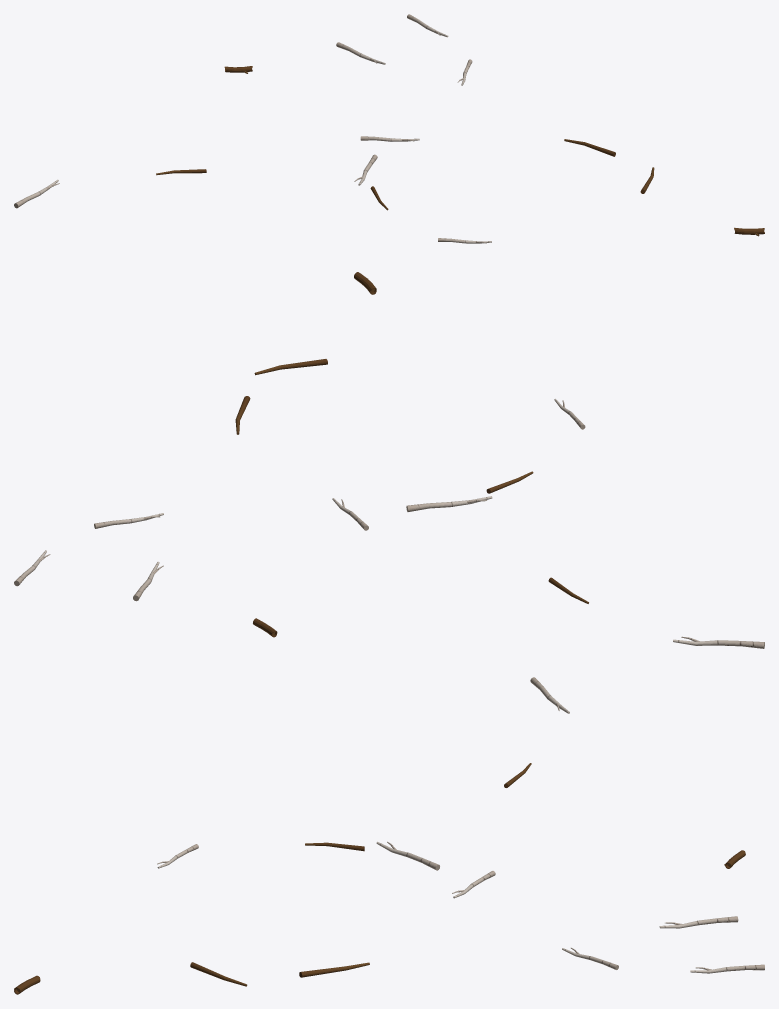
The model's file is Branches9.gltf.
3 views of the same model, one above another, from view 1: azimuth 30°, elevation 25°; view 2: azimuth 150°, elevation 25°; view 3: azimuth 270°, elevation 25° (orthographic). The views are drawn at different scales.
Size of the model in its own units: 28.63 by 0.3666 by 28.93.
3 materials, 3 textured.
